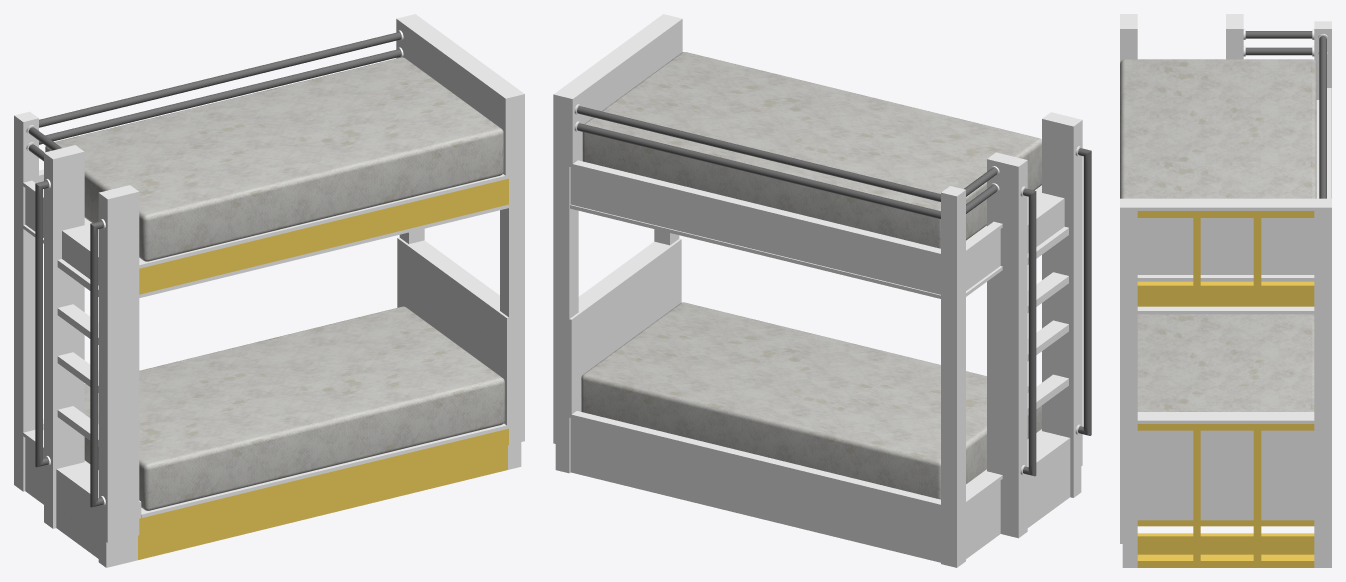
The model's file is bunk-bed-twin.glb.
3 renders of one model, left to right at view 1: azimuth 30°, elevation 25°; view 2: azimuth 150°, elevation 25°; view 3: azimuth 270°, elevation 25°, orthographic. The views are drawn at different scales.
Parts seen in each view (by area): view 1: upper-mattress, upper-mattress.001, upper-rail-left, twin-ladder-leg-left, lower-rail-right-bottom, twin-ladder-leg-right-front, twin-bunk-leg-head-right, lower-molding-head-front, twin-bunk-leg-foot-left, lower-rail-left, twin-ladder-leg-left.001, upper-molding-head-front (+17 smaller); view 2: upper-mattress.001, upper-mattress, lower-rail-right-top, upper-rail-right, twin-ladder-leg-right-front, twin-bunk-leg-head-right, twin-ladder-leg-left, twin-bunk-leg-foot-right, lower-molding-head-front, twin-ladder-leg-right-back, upper-molding-head-front, lower-molding-rail-right (+18 smaller); view 3: upper-mattress, upper-mattress.001, lower-molding-head-front, upper-molding-head-front, twin-bunk-leg-foot-right, twin-bunk-leg-foot-left, lower-rail-head, upper-molding-head-top, upper-rail-head.001, lower-frame-head-bottom-left, lower-molding-head-top-left, upper-frame-head-top.001 (+16 smaller).
Boxes of the visible parts, x1,y1,x2,y2 form: upper-mattress: [45, 57, 503, 261]; upper-mattress.001: [84, 306, 504, 510]; upper-rail-left: [139, 178, 508, 294]; twin-ladder-leg-left: [98, 189, 123, 567]; lower-rail-right-bottom: [144, 447, 500, 558]; twin-ladder-leg-right-front: [44, 149, 68, 528]; twin-bunk-leg-head-right: [14, 111, 38, 491]; lower-molding-head-front: [397, 242, 508, 428]; twin-bunk-leg-foot-left: [500, 97, 524, 469]; lower-rail-left: [139, 428, 508, 534]; twin-ladder-leg-left.001: [114, 185, 139, 563]; upper-molding-head-front: [396, 22, 508, 175]; upper-mattress.001: [581, 302, 1041, 499]; upper-mattress: [582, 52, 1041, 248]; lower-rail-right-top: [570, 418, 940, 562]; upper-rail-right: [570, 167, 940, 294]; twin-ladder-leg-right-front: [1002, 156, 1027, 538]; twin-bunk-leg-head-right: [941, 186, 965, 567]; twin-ladder-leg-left: [1057, 116, 1082, 497]; twin-bunk-leg-foot-right: [553, 98, 578, 473]; lower-molding-head-front: [569, 243, 681, 414]; twin-ladder-leg-right-back: [987, 152, 1011, 534]; upper-molding-head-front: [569, 22, 682, 163]; lower-molding-rail-right: [569, 411, 940, 508]; upper-mattress: [1120, 59, 1316, 198]; upper-mattress.001: [1137, 314, 1314, 411]; lower-molding-head-front: [1137, 430, 1314, 520]; upper-molding-head-front: [1137, 218, 1314, 274]; twin-bunk-leg-foot-right: [1314, 211, 1331, 567]; twin-bunk-leg-foot-left: [1120, 211, 1137, 567]; lower-rail-head: [1137, 533, 1314, 554]; upper-molding-head-top: [1120, 198, 1331, 210]; upper-rail-head.001: [1137, 292, 1314, 306]; lower-frame-head-bottom-left: [1137, 554, 1314, 567]; lower-molding-head-top-left: [1120, 412, 1331, 423]; upper-frame-head-top.001: [1137, 281, 1314, 292].
Size of the model in its own units: 2.42 by 2.01 by 1.07.
Materials: 6 (1 with a texture image).
